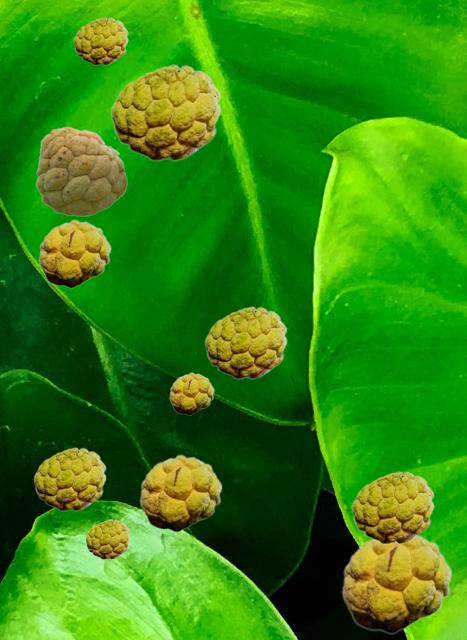atis: (341, 535, 451, 633), (110, 64, 220, 160), (35, 126, 126, 215), (139, 454, 221, 531), (204, 306, 286, 378), (351, 471, 433, 543), (38, 219, 110, 287), (33, 447, 105, 510), (73, 17, 127, 64), (169, 372, 213, 414), (85, 519, 129, 558)
